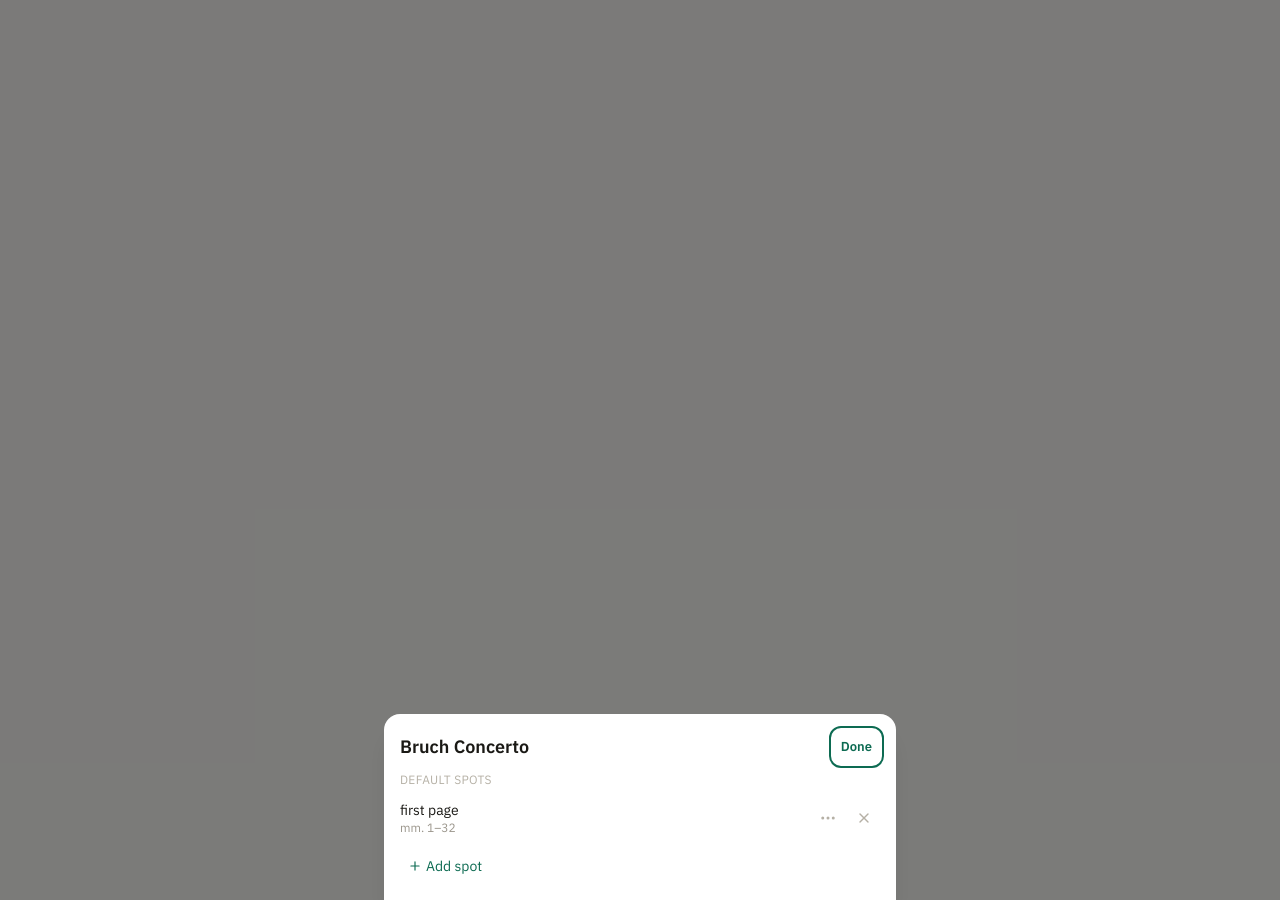
Scenario: SpotManagementDrawer › creates a spot from the search text and adds it to the defaults
This screenshot has width=1280, height=900.
Step 1. Click the button "Add spot" → (454,866), box [400,848,880,884]
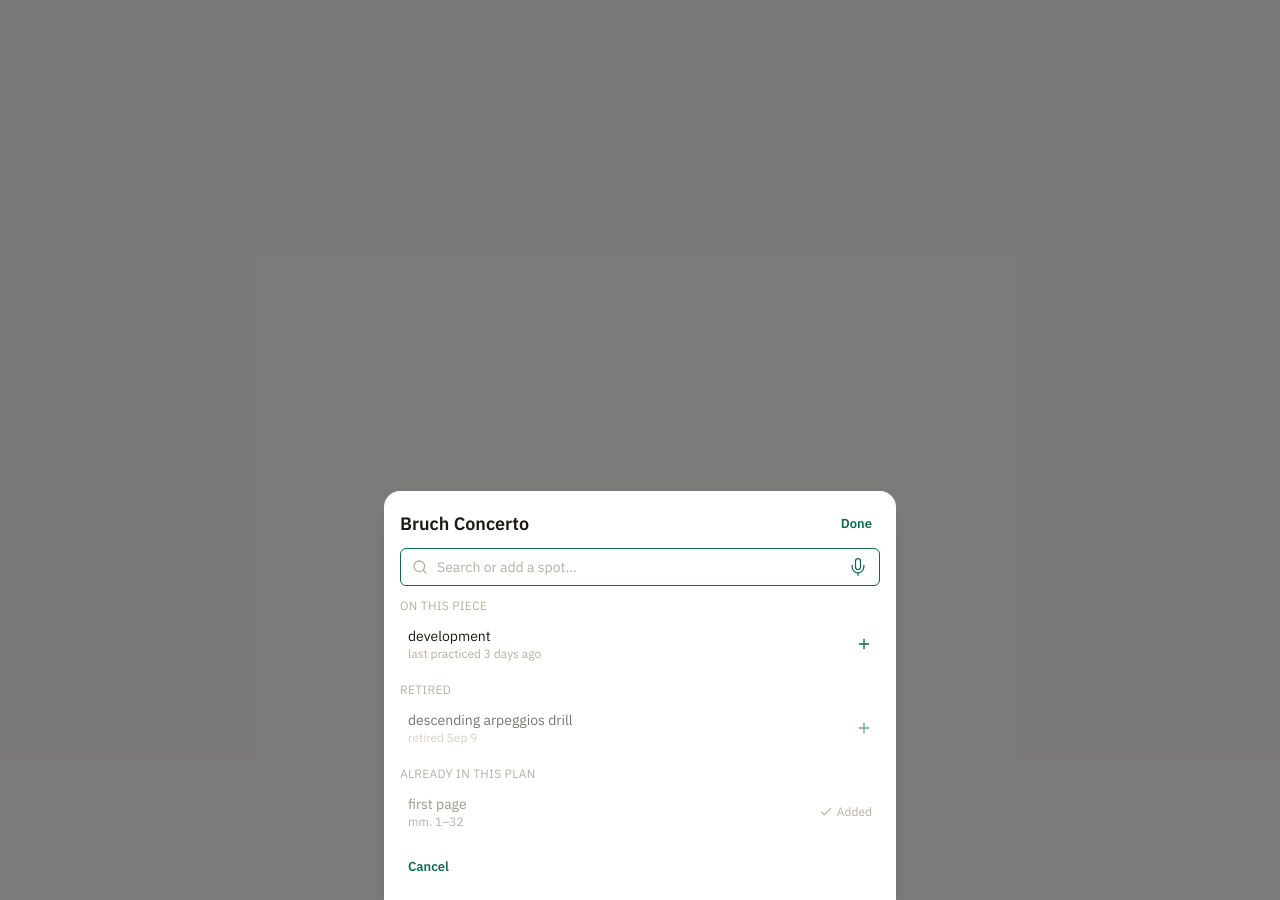
Step 2. Type "cadenza" into the field named "Search spots" → (640,568), box [400,548,880,586]
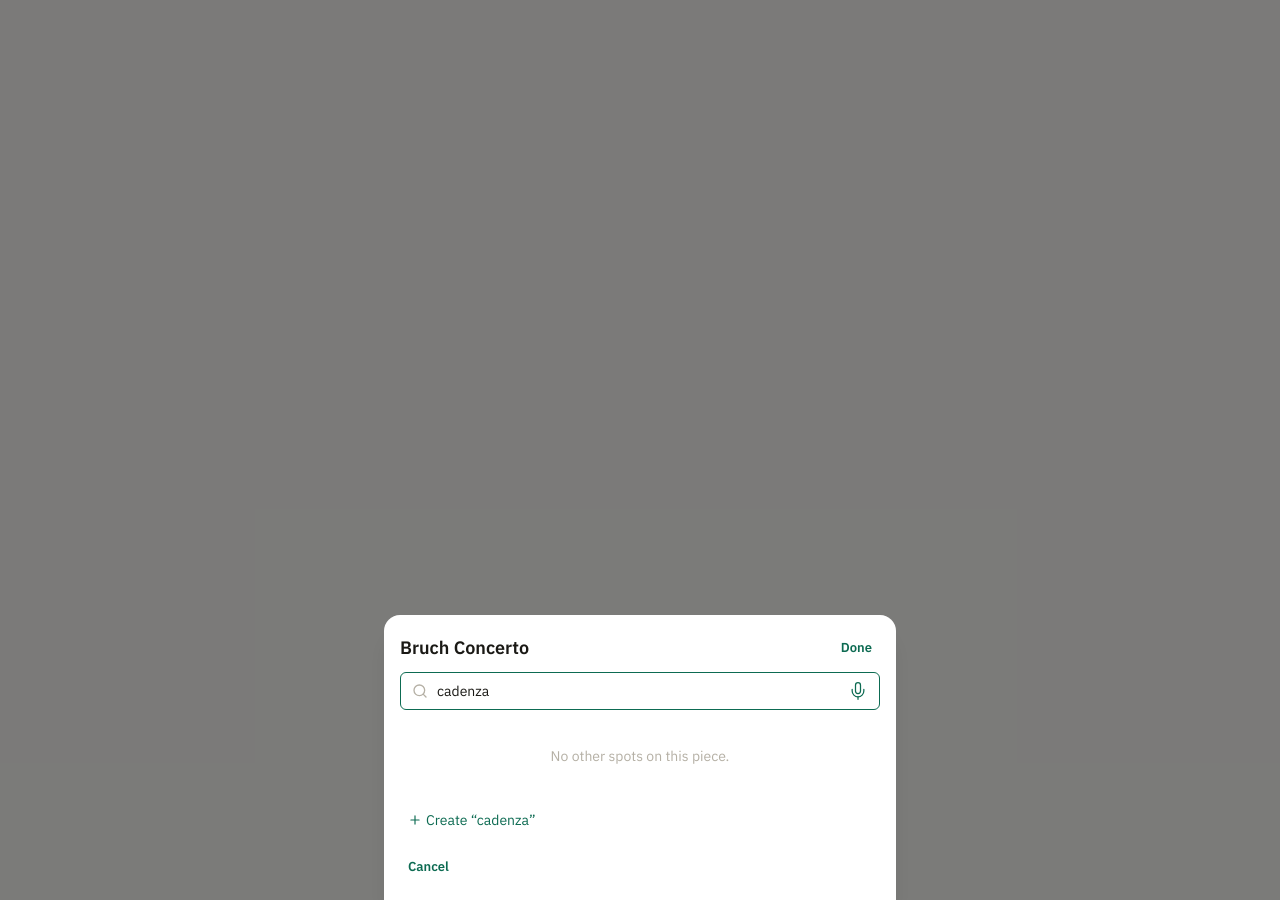
Step 3. Click the button "Create “cadenza”" → (451,820), box [400,802,880,838]
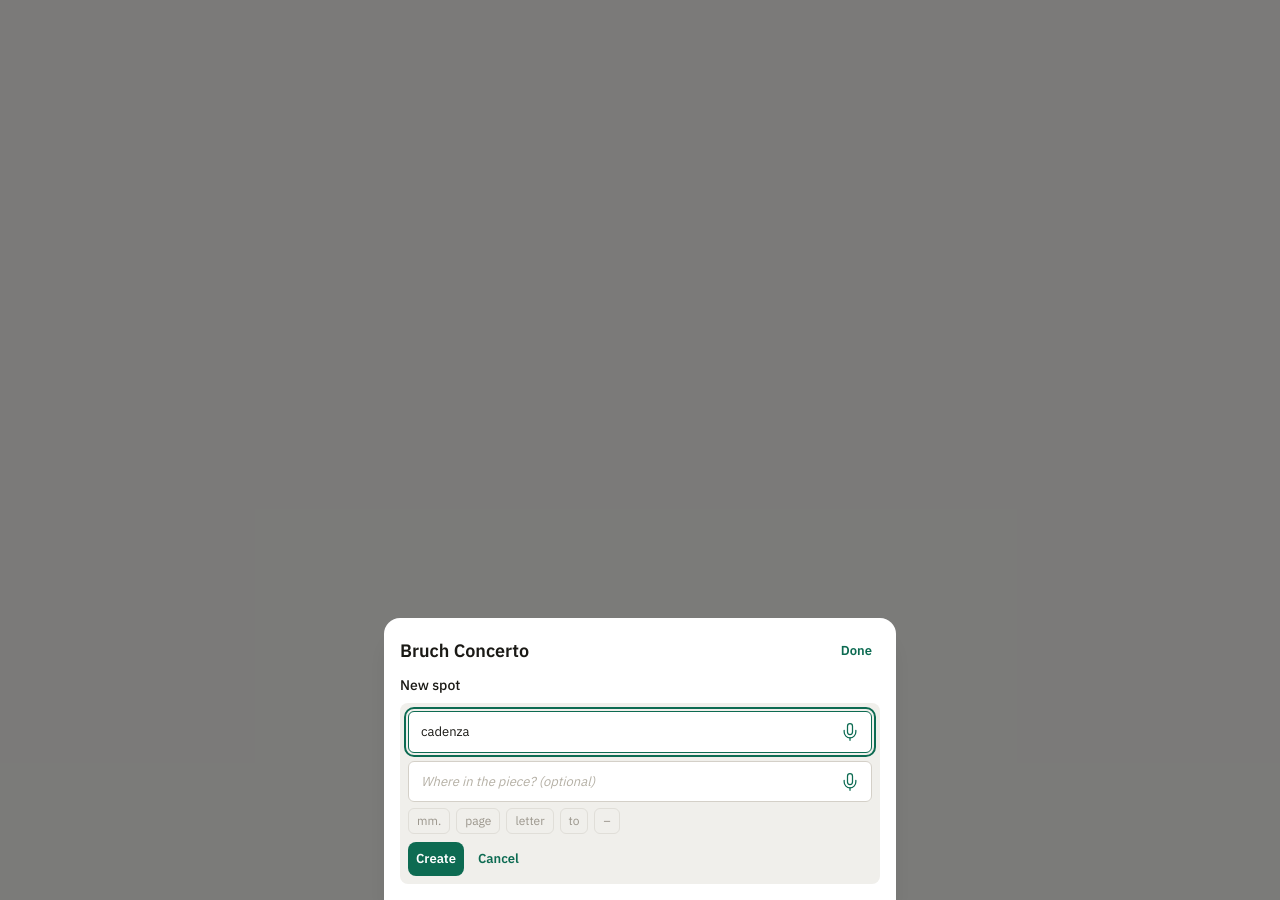
Check: the field named "Spot name" holds "cadenza", box [408,712,872,753]
Step 4. Click the button with aria-label "Insert “mm.”" → (429,822), box [408,808,450,834]
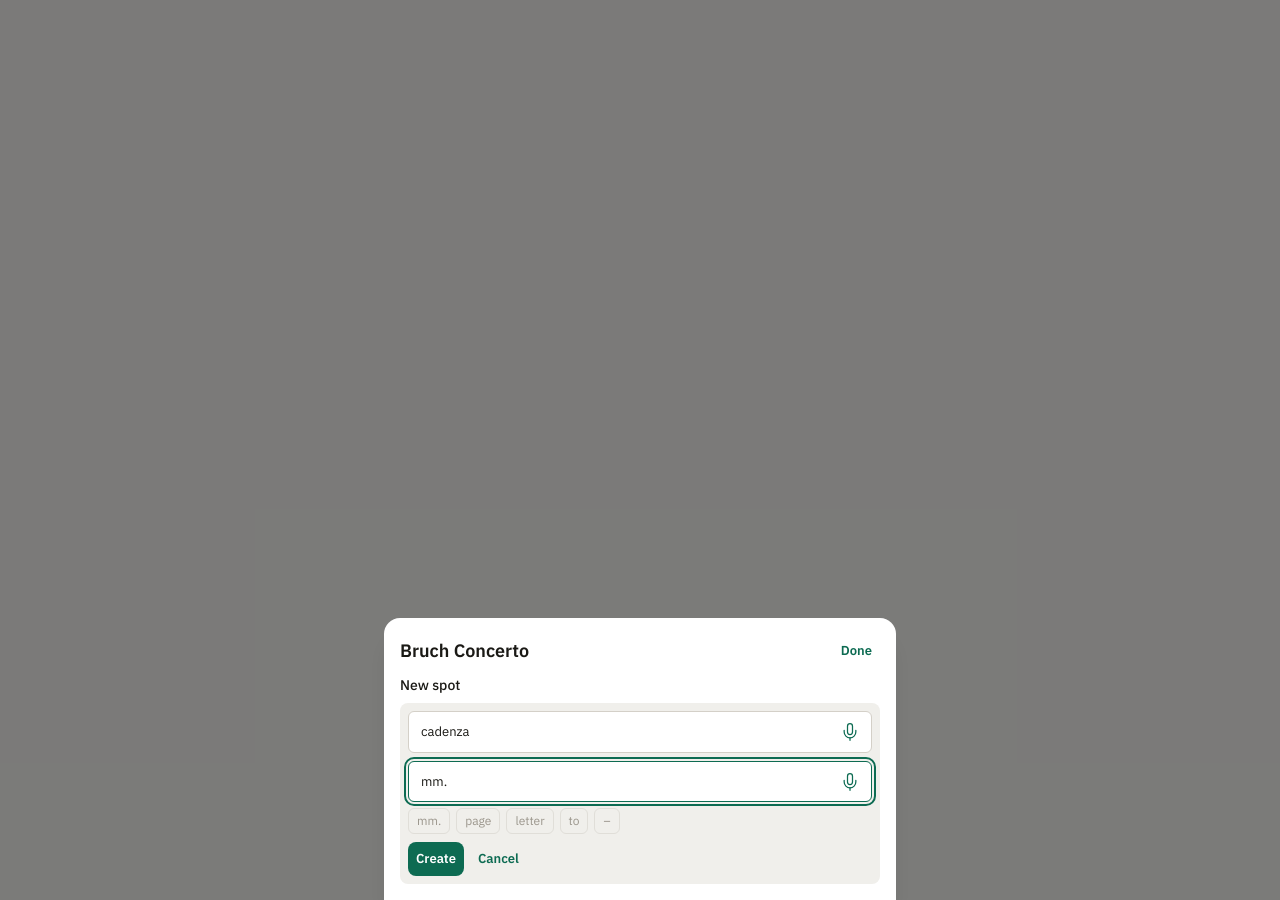
Step 5. Type "158–172" into the field named "Location" → (640,782), box [408,761,872,802]
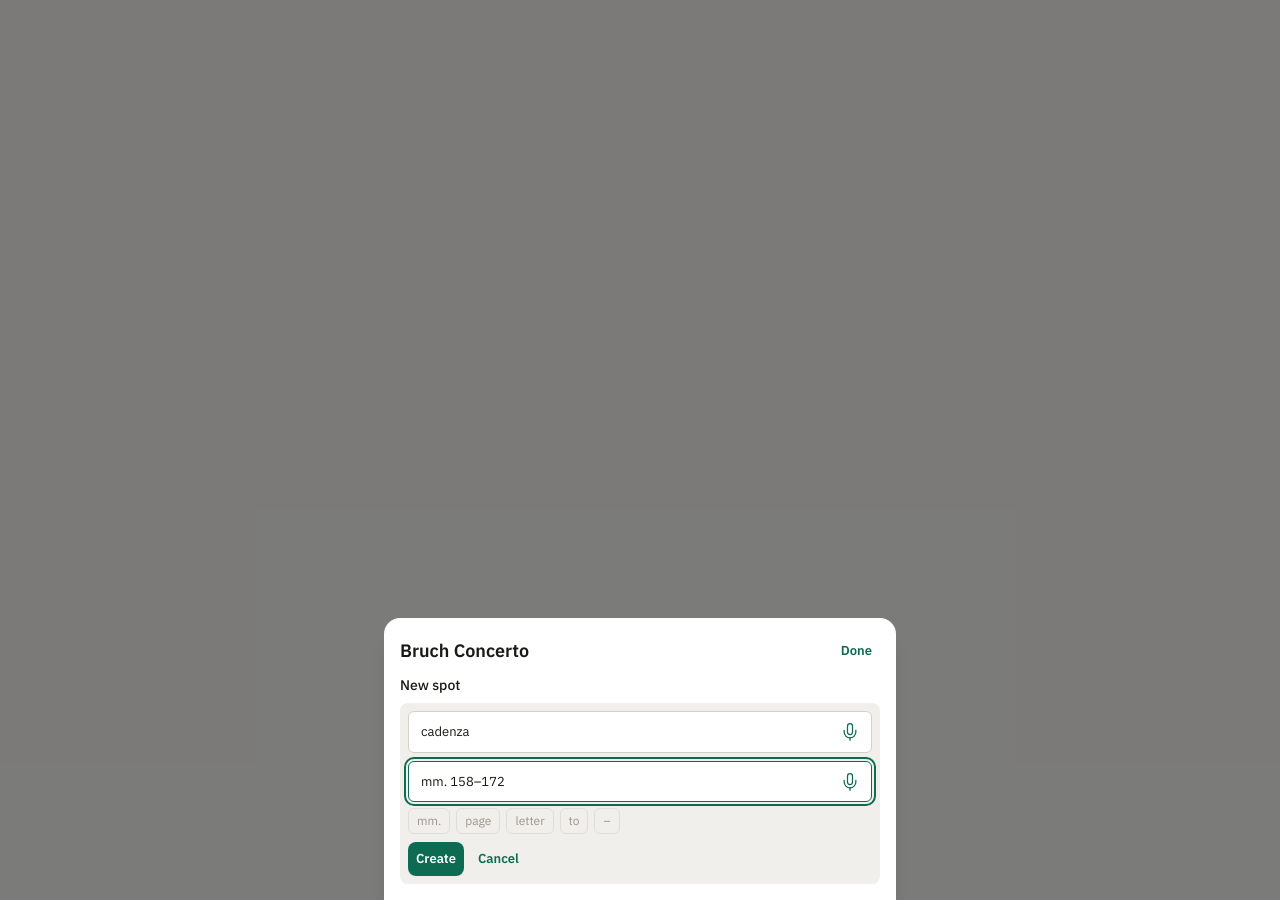
Step 6. Click the button "Create" → (436,859), box [408,842,464,876]
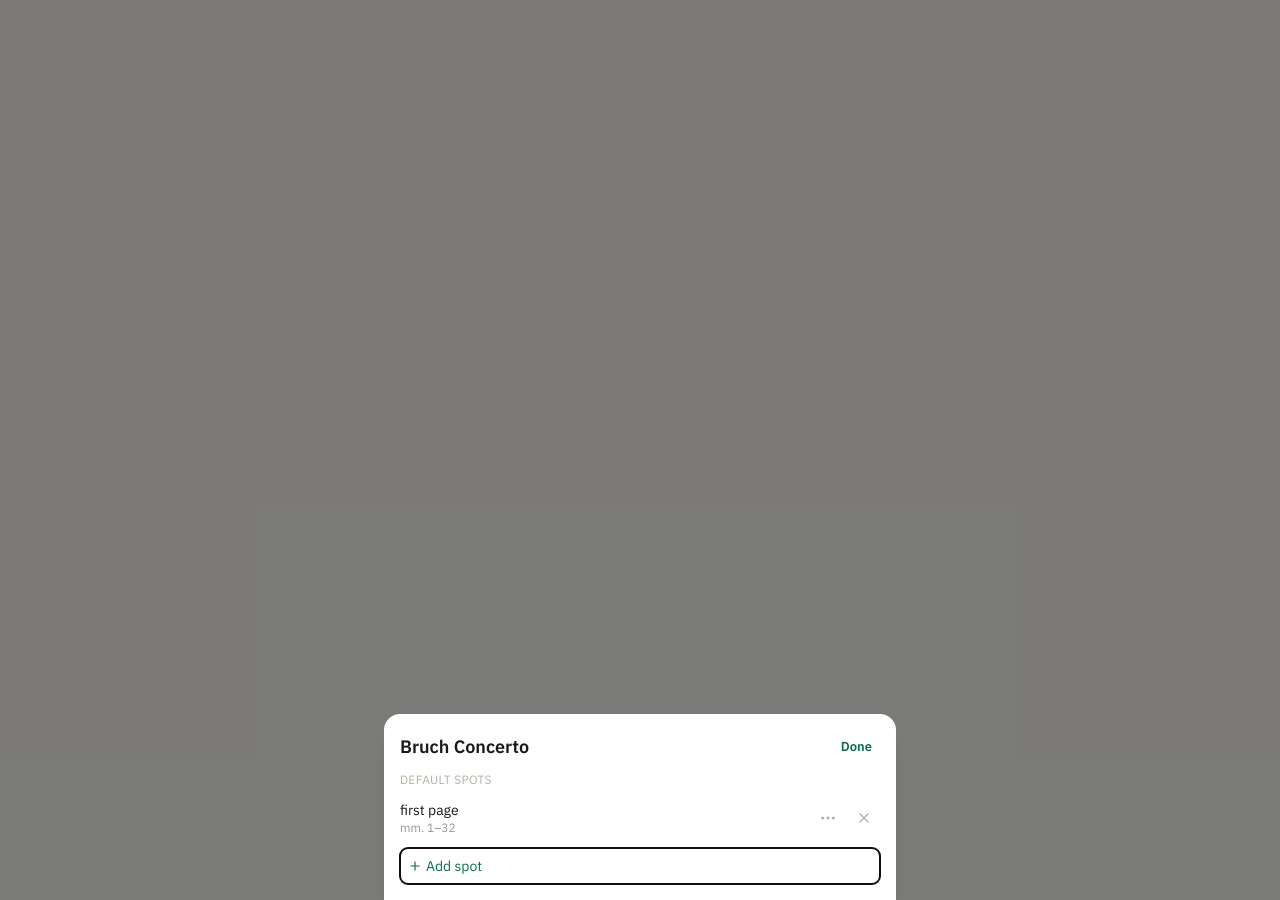
Check: the heading "Default spots" is shown, box [400,772,492,787]
